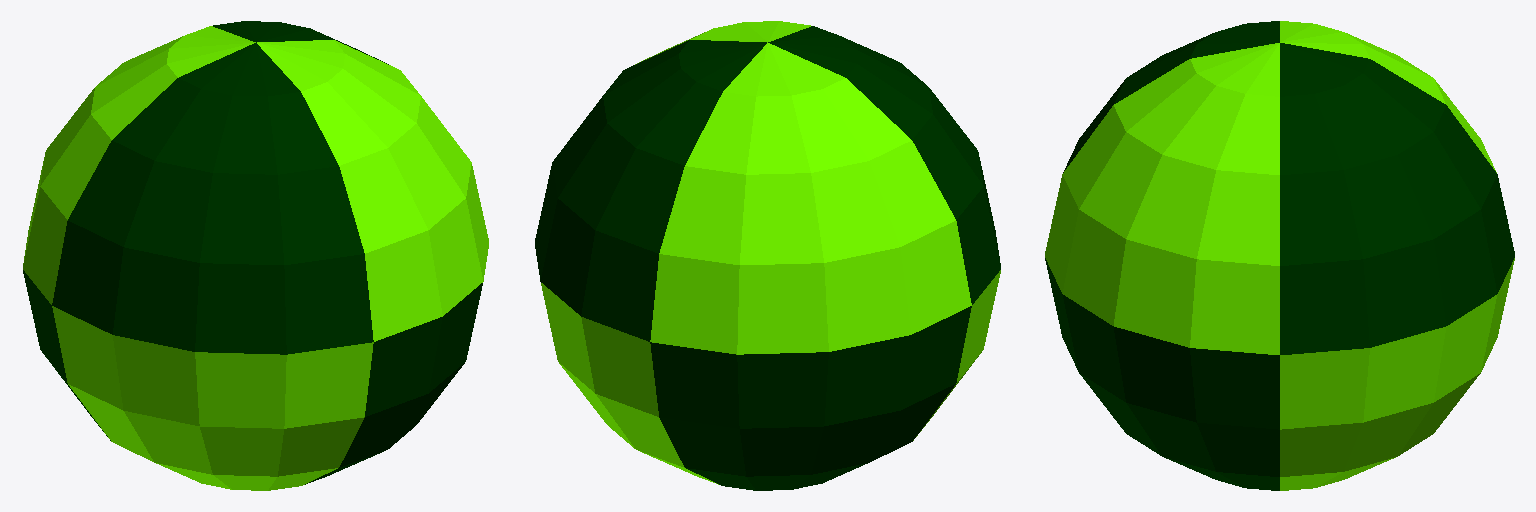
The model's file is ball-yoomp.obj.
3 views of the same model, side by side, from view 1: azimuth 30°, elevation 25°; view 2: azimuth 150°, elevation 25°; view 3: azimuth 270°, elevation 25° (orthographic).
Visible parts, largest first — view 1: Sphere.001; view 2: Sphere.001; view 3: Sphere.001.
Part boxes in pixels (left/top/right/bottom): Sphere.001: left=23, top=21, right=488, bottom=490; Sphere.001: left=535, top=21, right=1000, bottom=490; Sphere.001: left=1045, top=21, right=1514, bottom=490.
Bounding box in the file's own units: 2 × 2 × 2.